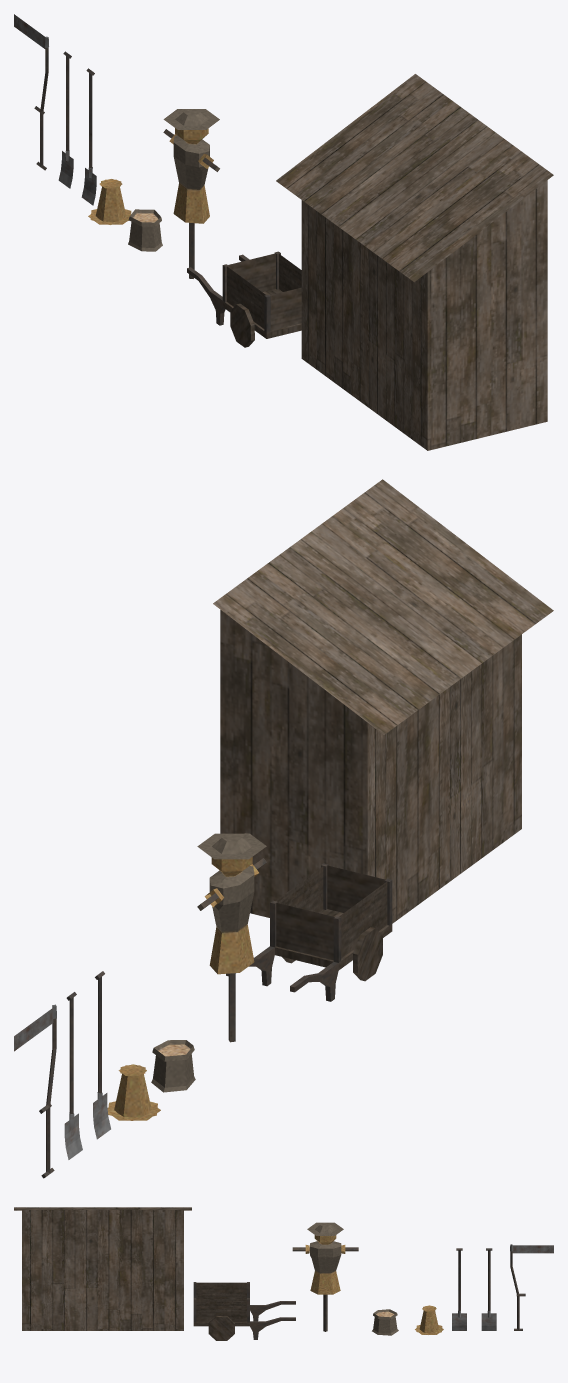
Rendered from FarmStuff.fbx.
3 views of the same model, one above another, from view 1: azimuth 30°, elevation 25°; view 2: azimuth 150°, elevation 25°; view 3: azimuth 270°, elevation 25° (orthographic). The views are drawn at different scales.
Parts seen in each view (by area): view 1: Shack, Wheelbarrow, Scarecrow, GrainSack, Haystack, Scythe, Spade, Pitchfork; view 2: Shack, Wheelbarrow, Scarecrow, GrainSack, Haystack, Scythe, Spade, Pitchfork; view 3: Shack, Wheelbarrow, Scarecrow, Scythe, GrainSack, Haystack, Spade, Pitchfork.
Boxes of the visible parts, x1,y1,x2,y2 form: Shack: (276,74,553,450); Wheelbarrow: (187,251,301,347); Scarecrow: (163,109,219,278); GrainSack: (128,209,162,251); Haystack: (88,179,131,224); Scythe: (14,14,48,170); Spade: (58,51,73,188); Pitchfork: (81,68,96,205); Shack: (213,479,553,923); Wheelbarrow: (226,863,392,1001); Scarecrow: (197,833,266,1042); GrainSack: (151,1040,195,1092); Haystack: (107,1064,160,1120); Scythe: (14,1004,56,1178); Spade: (64,992,82,1159); Pitchfork: (93,971,110,1139); Shack: (14,1207,191,1330); Wheelbarrow: (193,1282,295,1340); Scarecrow: (292,1222,358,1331); Scythe: (510,1244,553,1330); GrainSack: (372,1309,398,1335); Haystack: (415,1305,443,1334); Spade: (481,1248,496,1330); Pitchfork: (452,1248,466,1330).
Bounding box in the file's own units: 190 × 300 × 910.
